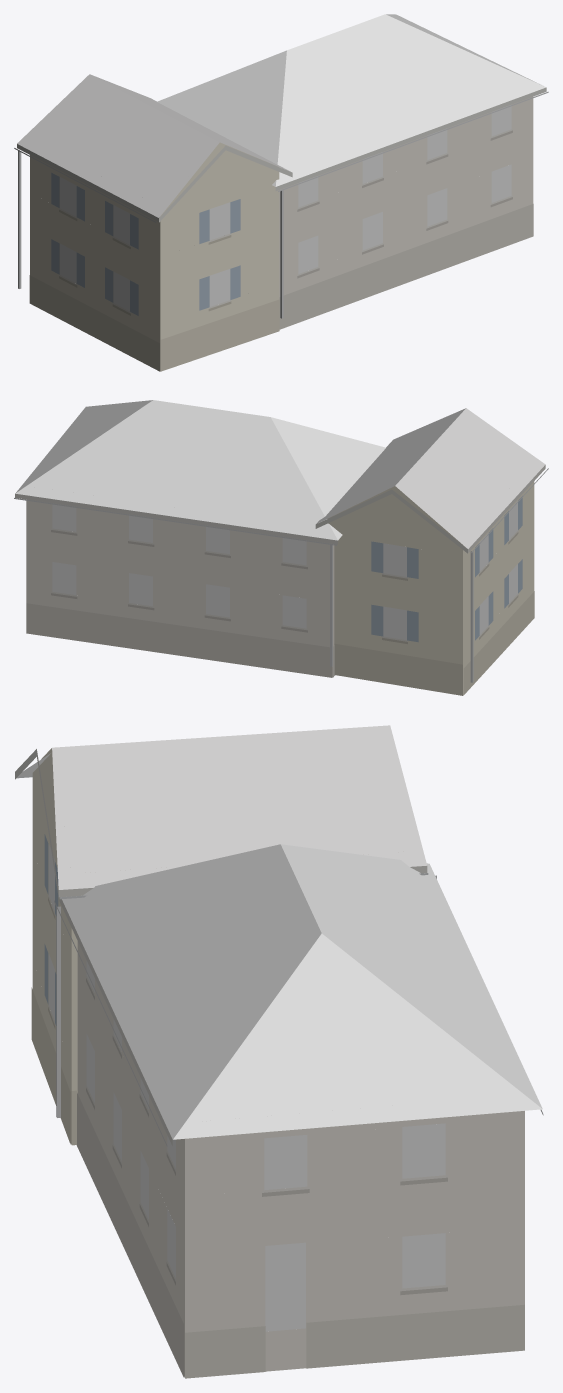
3 views of the same model, one above another, from view 1: azimuth 30°, elevation 25°; view 2: azimuth 150°, elevation 25°; view 3: azimuth 270°, elevation 25° (orthographic). The views are drawn at different scales.
Parts seen in each view (by area): view 1: bld; view 2: bld; view 3: bld.
Part boxes in pixels (x1,y1,x2,y2): bld: [14, 14, 548, 371]; bld: [14, 400, 548, 695]; bld: [15, 725, 543, 1378].
Size of the model in its own units: 20.32 by 9 by 12.15.
